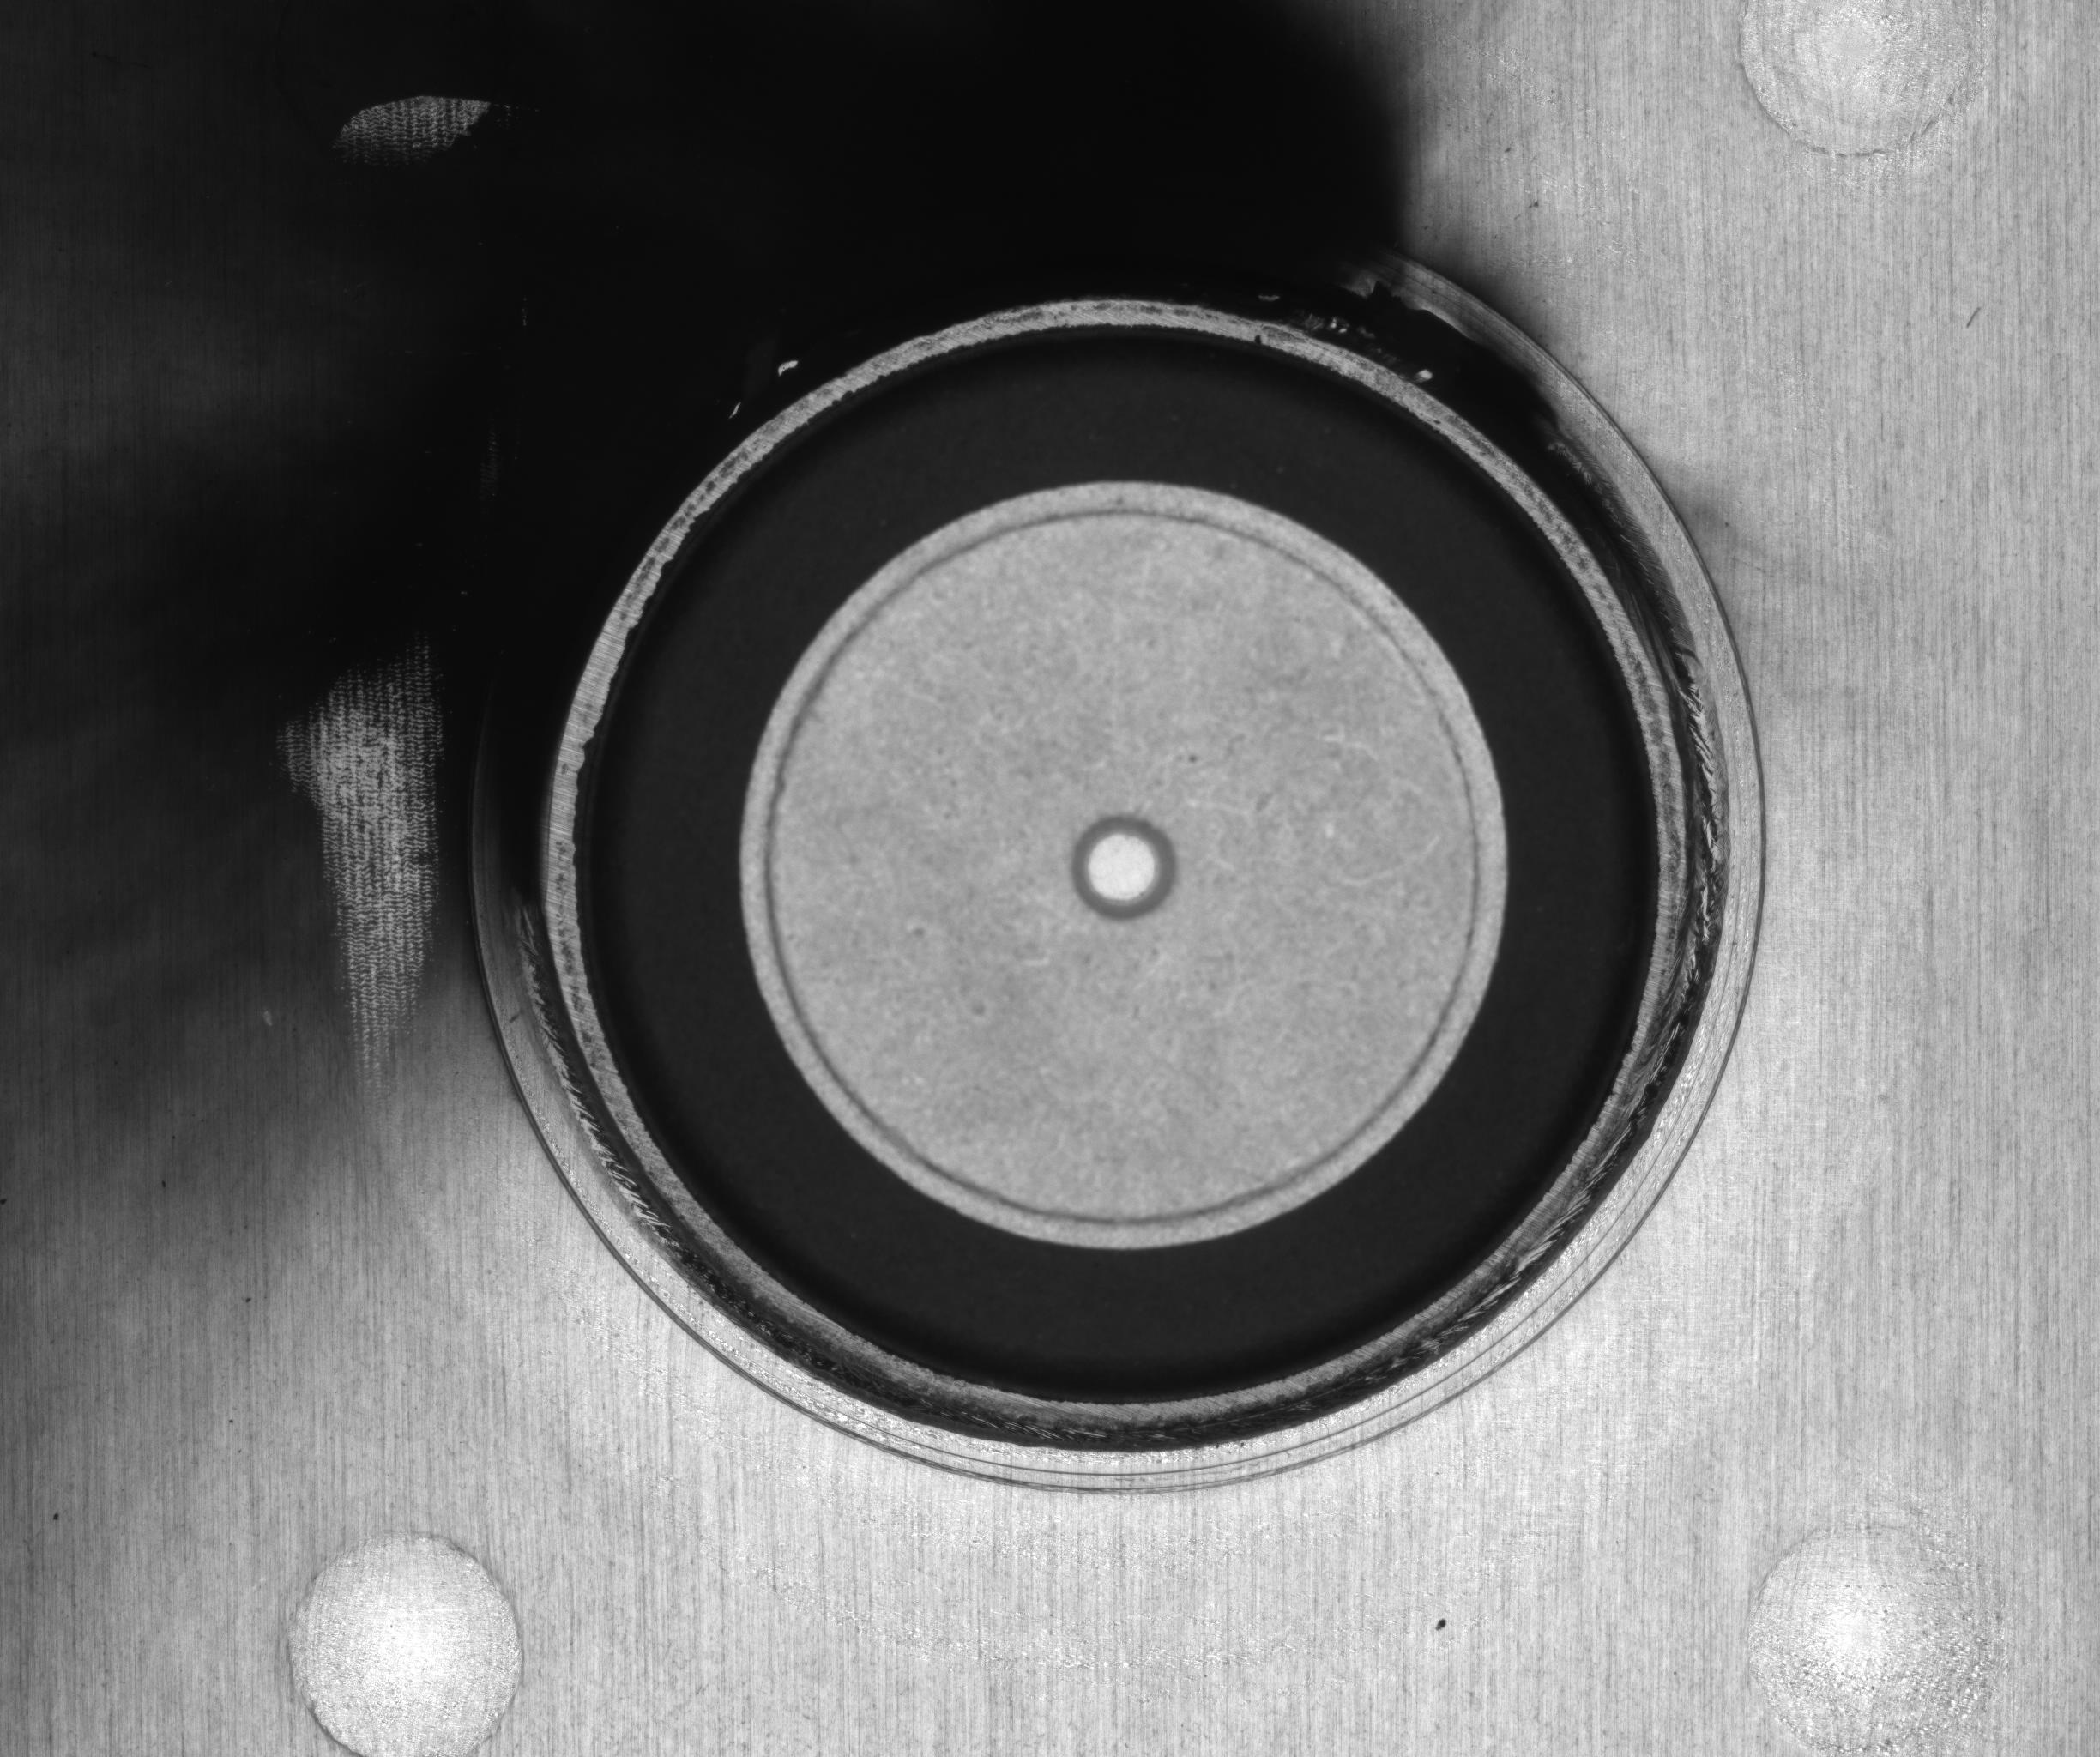burn: (153, 103, 1437, 935)
